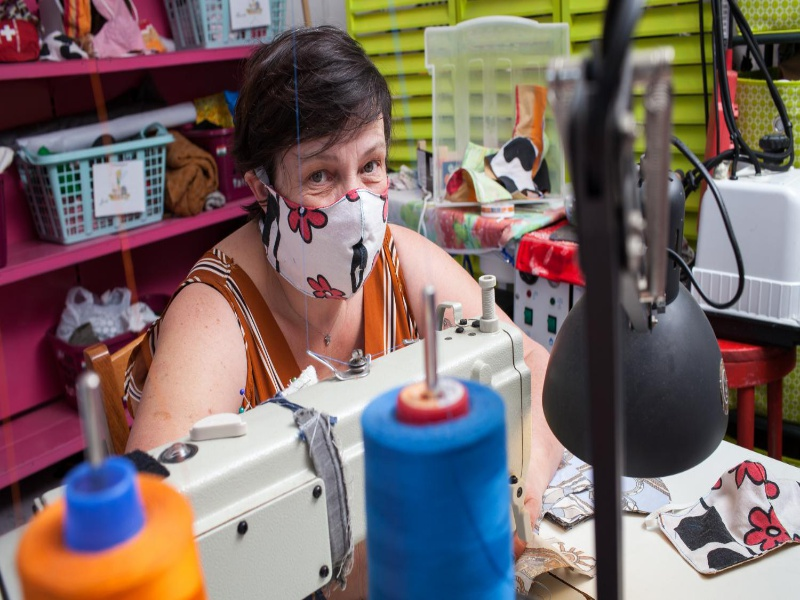ManaoArotava: (243, 105, 425, 312)
